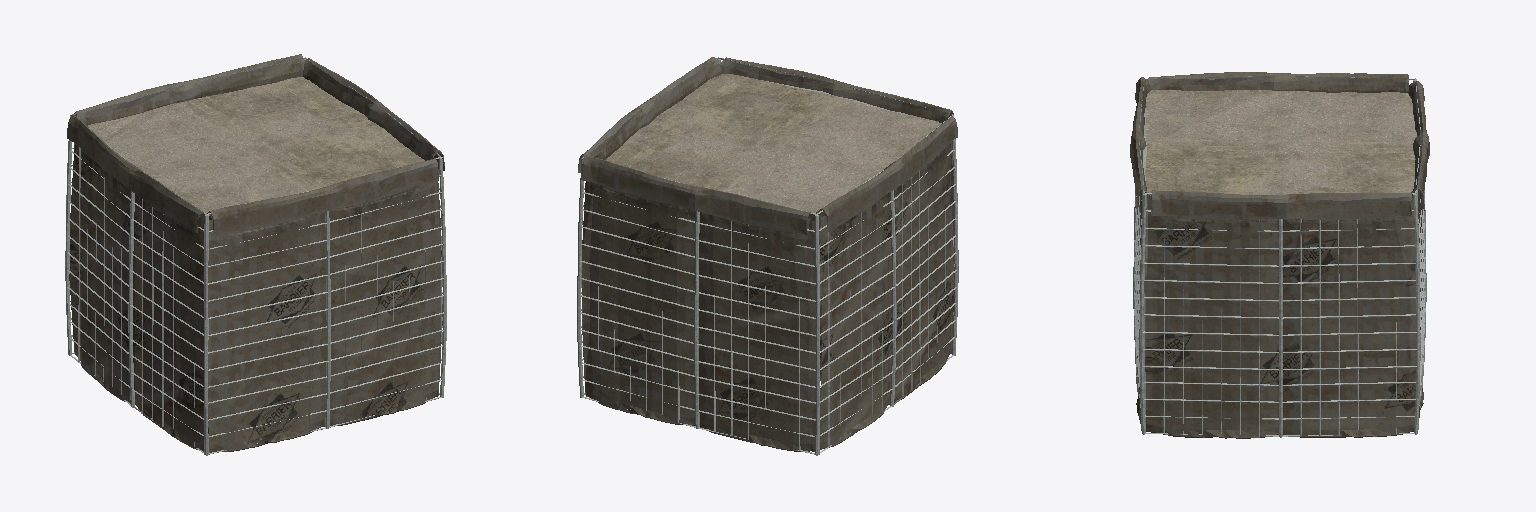
3 renders of one model, left to right at view 1: azimuth 30°, elevation 25°; view 2: azimuth 150°, elevation 25°; view 3: azimuth 270°, elevation 25°, orthographic.
Visible parts, largest first — view 1: HescoBarrier_LOW_Untitled; view 2: HescoBarrier_LOW_Untitled; view 3: HescoBarrier_LOW_Untitled.
Boxes of the visible parts, x1=… form: HescoBarrier_LOW_Untitled: x1=65, y1=54, x2=446, y2=455; HescoBarrier_LOW_Untitled: x1=577, y1=57, x2=958, y2=455; HescoBarrier_LOW_Untitled: x1=1130, y1=72, x2=1429, y2=438.
Size of the model in its own units: 1.24 by 1.12 by 1.23.
1 materials, 1 textured.